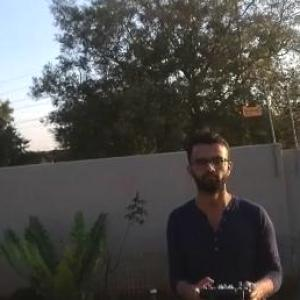follow: (162, 124, 290, 299)
